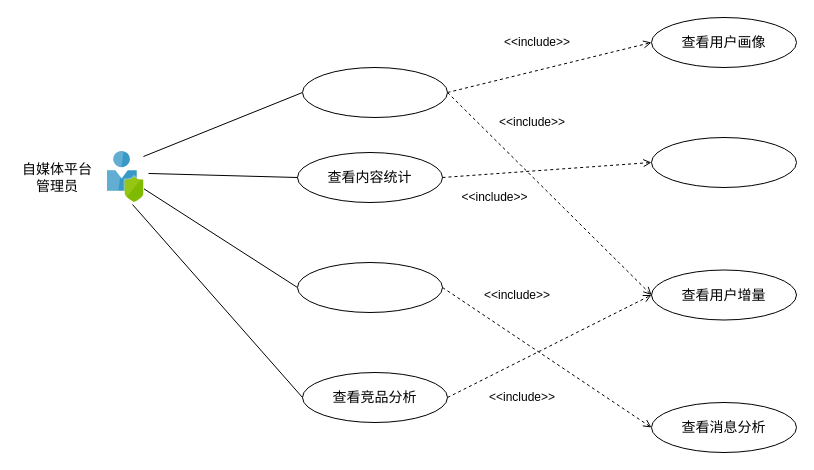
Some shapes in this 814 by 470 pixel diagram are drawn without their labels. Here are the shapes that lost their labels. From the top down, the box of each, then its label:
(302, 66, 448, 118): 查看用户分析
(650, 136, 796, 188): 查看账号内容统计 （转赞评）
(296, 262, 442, 312): 查看消息统计
